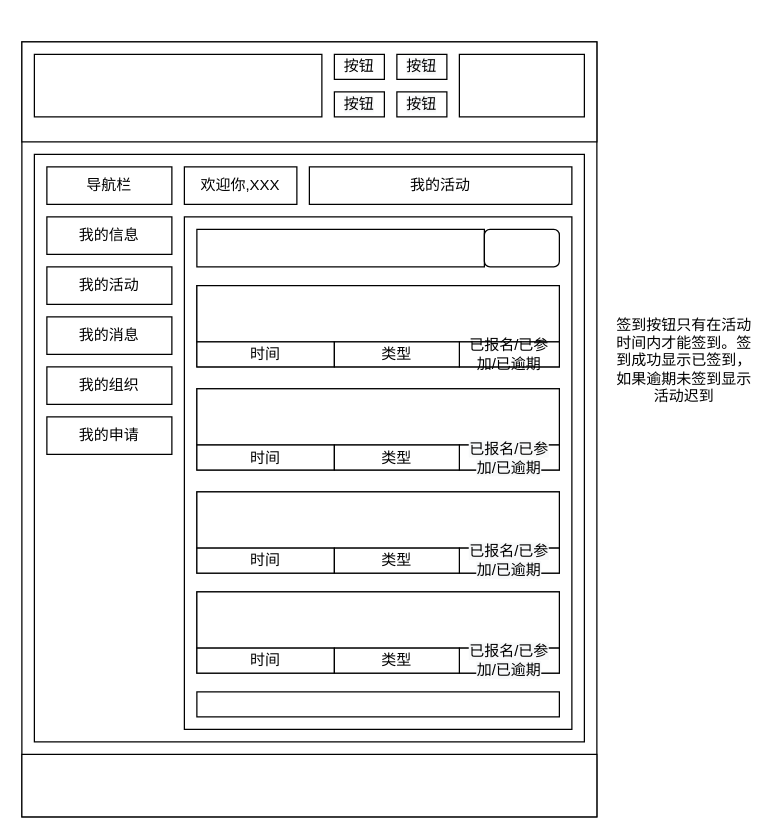
Image size: 781x839. Some labels were removed from this diagram. The box of each missing label's shape, as (x1, y1, x2, y2) in pixels:
分页页码: (196, 691, 559, 717)
底部导航栏&联系发邮件: (21, 753, 597, 817)
当前登录学生信息显示（跳转主页）: (458, 53, 584, 117)
搜索: (483, 228, 559, 267)
网站标题（文字+图片）: (33, 53, 322, 117)
